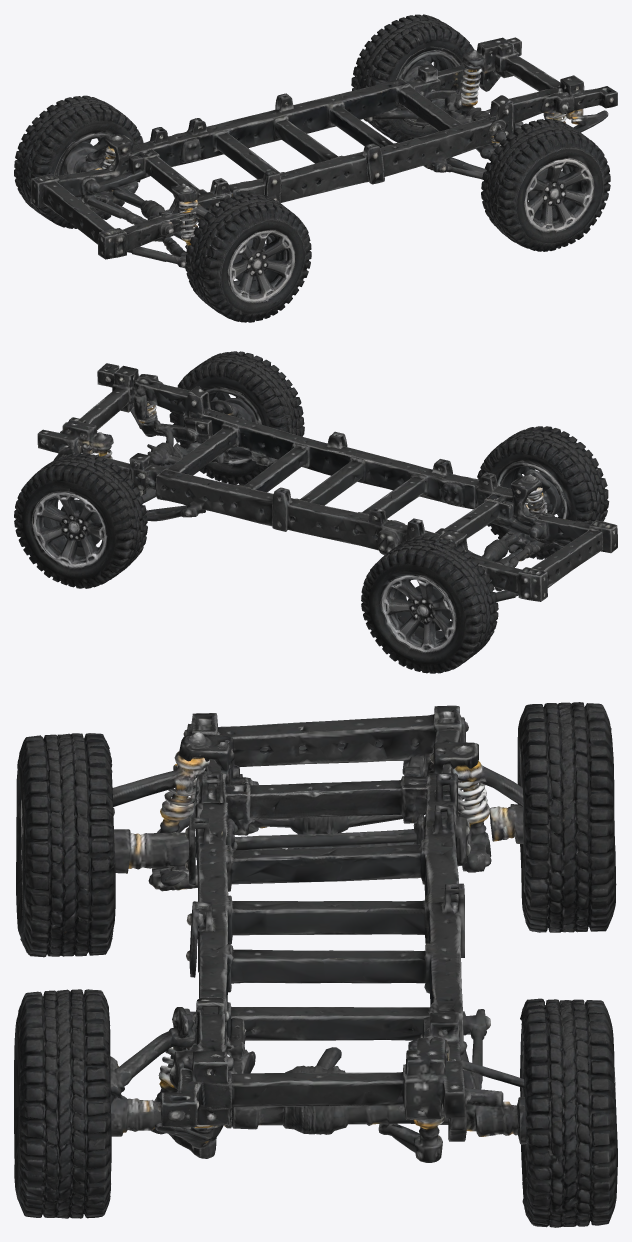
The model's file is sasis-bensin-lite.glb.
The picture shows the model from 3 angles, top to bottom: view 1: azimuth 30°, elevation 25°; view 2: azimuth 150°, elevation 25°; view 3: azimuth 270°, elevation 25°; orthographic projection. The views are drawn at different scales.
Size of the model in its own units: 1.89 by 0.419 by 1.09.
1 material, 1 textured.
